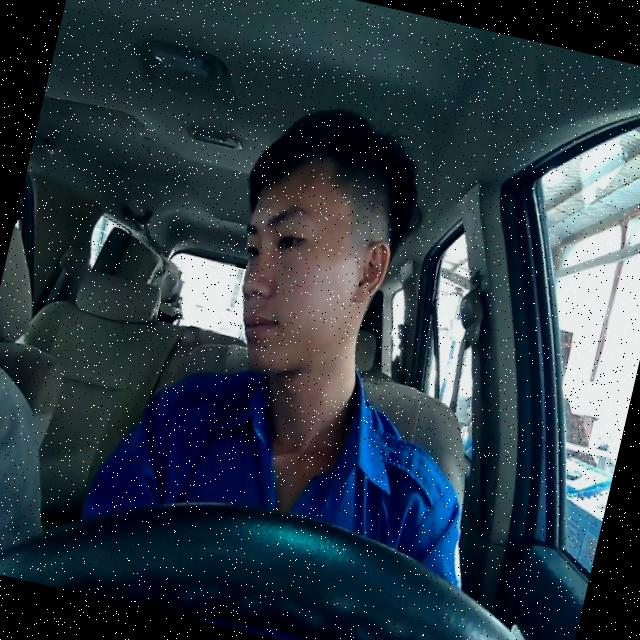seeing_left: (212, 132, 414, 398)
